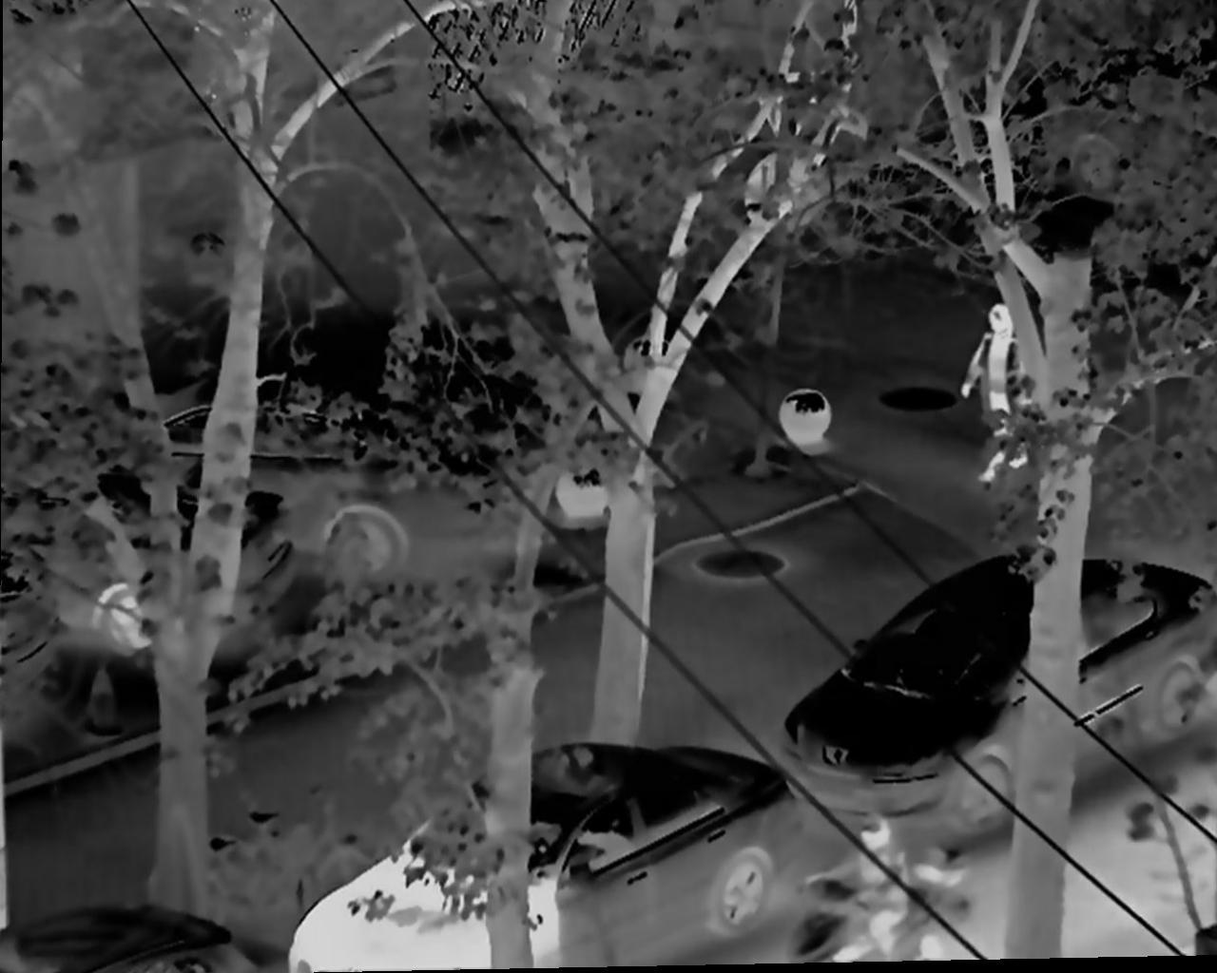person: (806, 812, 945, 973), (957, 297, 1038, 493)
